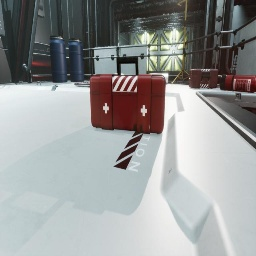0: (148, 73, 168, 84), (114, 73, 124, 75)
FireExtinguisher ]: (219, 74, 256, 93)
FirstAidBox ,: (90, 56, 166, 134), (189, 69, 218, 89)
SafetySwitchPanel ,: (38, 0, 45, 18)
